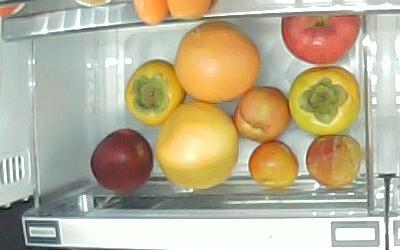apple: (90, 129, 154, 194), (280, 15, 360, 64)
grapefruit: (155, 100, 239, 189), (176, 23, 263, 106)
persimmon: (290, 65, 363, 137), (123, 58, 186, 127)
prune: (232, 86, 291, 144), (305, 135, 360, 188), (247, 140, 300, 189)
